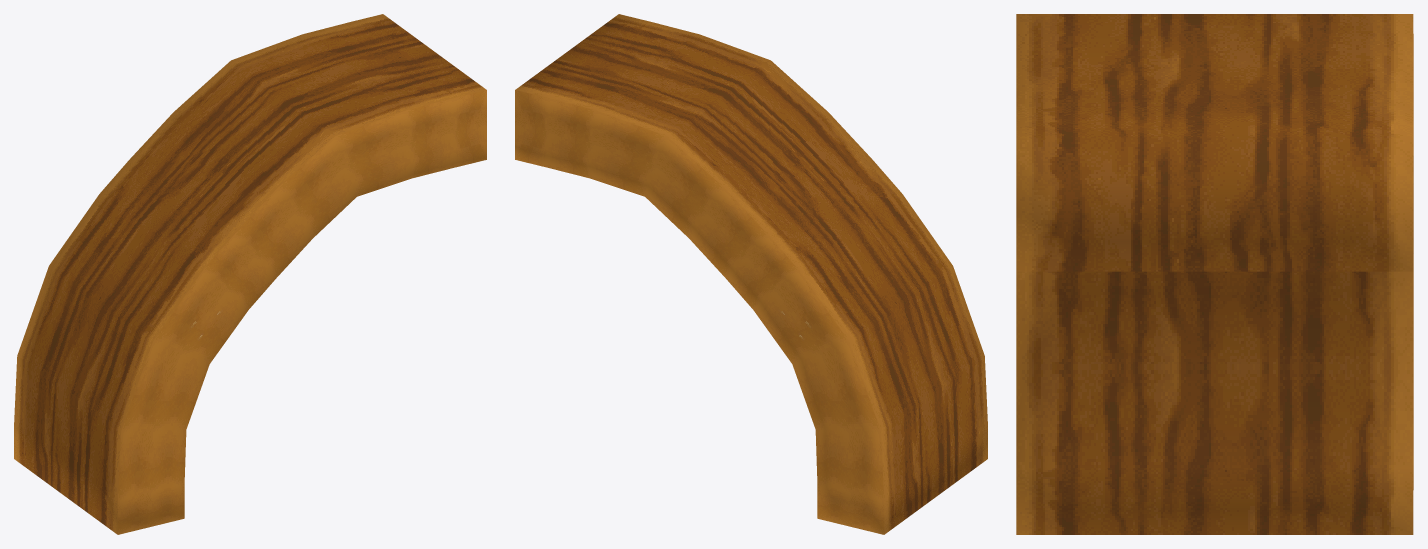
Rendered from SM_AP_CanyonWall_Bend_1.glb.
3 renders of one model, left to right at view 1: azimuth 30°, elevation 25°; view 2: azimuth 150°, elevation 25°; view 3: azimuth 270°, elevation 25°, orthographic. The views are drawn at different scales.
Parts seen in each view (by area): view 1: SM_AP_CanyonWall_Bend_1; view 2: SM_AP_CanyonWall_Bend_1; view 3: SM_AP_CanyonWall_Bend_1.
Boxes of the visible parts, x1,y1,x2,y2 form: SM_AP_CanyonWall_Bend_1: (14, 14, 486, 534); SM_AP_CanyonWall_Bend_1: (515, 14, 987, 534); SM_AP_CanyonWall_Bend_1: (1016, 14, 1413, 534).
Bounding box in the file's own units: 44.22 × 40.65 × 21.56.
Materials: 1 (1 with a texture image).
